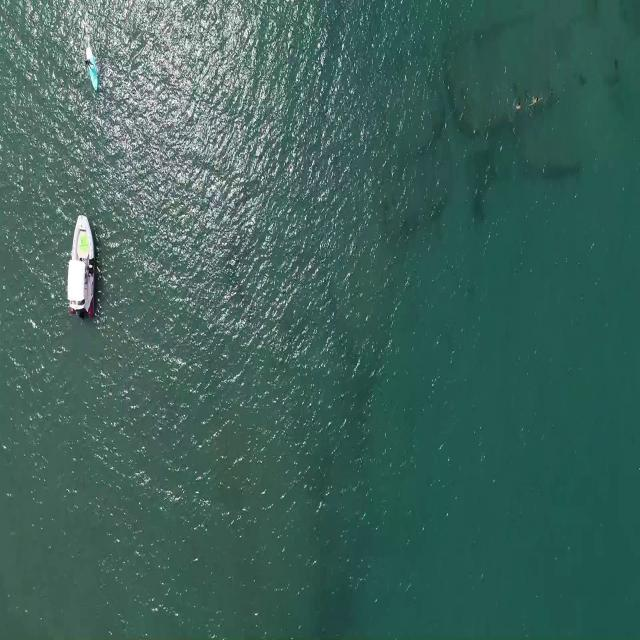boat: (66, 203, 98, 323)
person: (530, 95, 546, 107), (85, 55, 97, 70), (514, 100, 522, 110)
surfboard: (85, 45, 98, 93)
